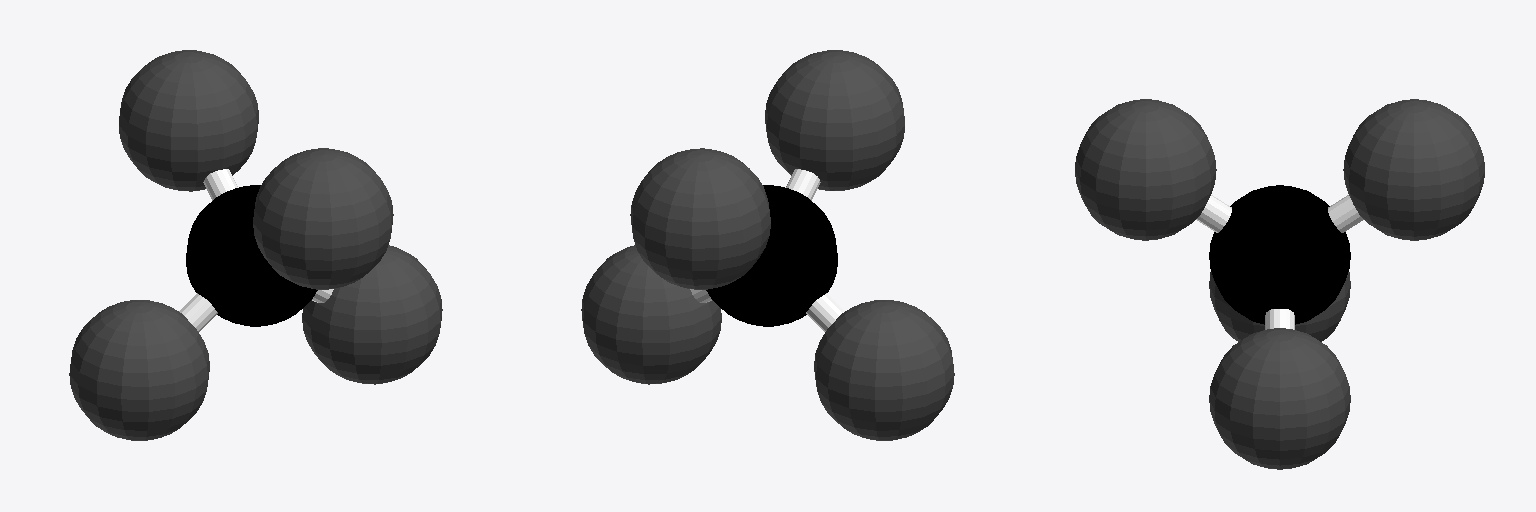
Rendered from methane.obj.
The picture shows the model from 3 angles: view 1: azimuth 30°, elevation 25°; view 2: azimuth 150°, elevation 25°; view 3: azimuth 270°, elevation 25°; orthographic projection.
Visible parts, largest first — view 1: Shape_Sphere.002_Shape_Sphere.003, Shape_Sphere.004_Shape_Sphere, Shape_Sphere.003_Shape_Sphere.004, Shape_Sphere.001_Shape_Sphere.002, Shape_Sphere_Shape_Sphere.001, Shape_Cylinder, Shape_Cylinder.003_Shape_Cylinder; view 2: Shape_Sphere.004_Shape_Sphere, Shape_Sphere.003_Shape_Sphere.004, Shape_Sphere.002_Shape_Sphere.003, Shape_Sphere.001_Shape_Sphere.002, Shape_Sphere_Shape_Sphere.001, Shape_Cylinder, Shape_Cylinder.002_Shape_Cylinder; view 3: Shape_Sphere.003_Shape_Sphere.004, Shape_Sphere.002_Shape_Sphere.003, Shape_Sphere.001_Shape_Sphere.002, Shape_Sphere_Shape_Sphere.001, Shape_Sphere.004_Shape_Sphere, Shape_Cylinder.002_Shape_Cylinder, Shape_Cylinder.003_Shape_Cylinder, Shape_Cylinder.001_Shape_Cylinder.
Part boxes in pixels (bbox=[...]): Shape_Sphere.002_Shape_Sphere.003: bbox=[253, 148, 393, 289]; Shape_Sphere.004_Shape_Sphere: bbox=[69, 300, 209, 440]; Shape_Sphere.003_Shape_Sphere.004: bbox=[119, 50, 258, 191]; Shape_Sphere.001_Shape_Sphere.002: bbox=[302, 245, 442, 384]; Shape_Sphere_Shape_Sphere.001: bbox=[186, 185, 317, 326]; Shape_Cylinder: bbox=[179, 293, 217, 331]; Shape_Cylinder.003_Shape_Cylinder: bbox=[203, 169, 237, 200]; Shape_Sphere.004_Shape_Sphere: bbox=[814, 300, 954, 440]; Shape_Sphere.003_Shape_Sphere.004: bbox=[630, 148, 770, 289]; Shape_Sphere.002_Shape_Sphere.003: bbox=[765, 50, 904, 190]; Shape_Sphere.001_Shape_Sphere.002: bbox=[581, 245, 721, 384]; Shape_Sphere_Shape_Sphere.001: bbox=[706, 185, 837, 326]; Shape_Cylinder: bbox=[806, 293, 844, 331]; Shape_Cylinder.002_Shape_Cylinder: bbox=[786, 169, 820, 200]; Shape_Sphere.003_Shape_Sphere.004: bbox=[1343, 99, 1484, 240]; Shape_Sphere.002_Shape_Sphere.003: bbox=[1075, 99, 1216, 240]; Shape_Sphere.001_Shape_Sphere.002: bbox=[1209, 328, 1350, 469]; Shape_Sphere_Shape_Sphere.001: bbox=[1209, 185, 1350, 324]; Shape_Sphere.004_Shape_Sphere: bbox=[1209, 272, 1350, 341]; Shape_Cylinder.002_Shape_Cylinder: bbox=[1196, 195, 1231, 232]; Shape_Cylinder.003_Shape_Cylinder: bbox=[1328, 195, 1363, 232]; Shape_Cylinder.001_Shape_Cylinder: bbox=[1265, 309, 1294, 329].
Bounding box in the file's own units: 2.78 × 2.25 × 2.78.